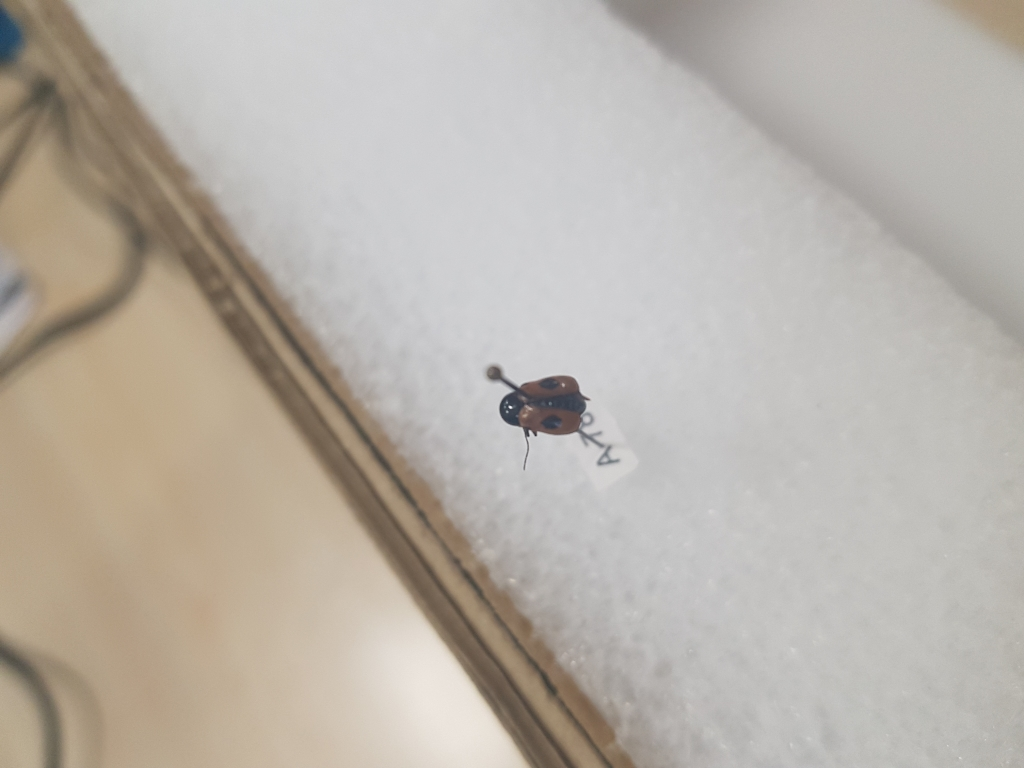Cryptocephalus_bipunctatus: (493, 367, 590, 461)
